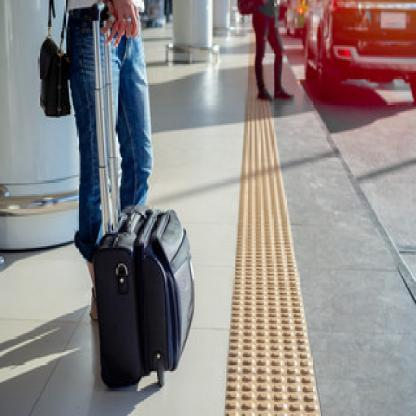podotacti: (220, 46, 323, 416)
